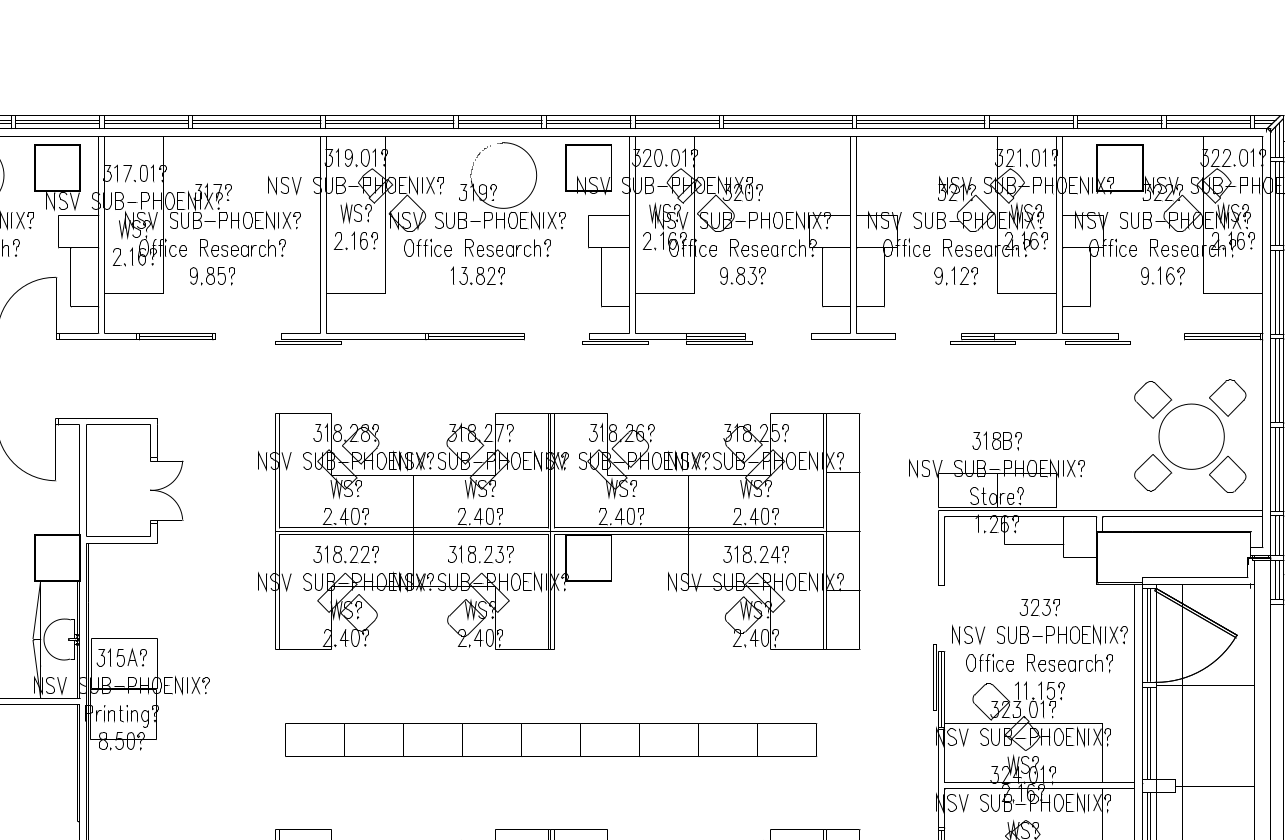door: (1153, 588, 1241, 684), (1, 269, 58, 334), (1, 421, 58, 486), (144, 456, 194, 524)
